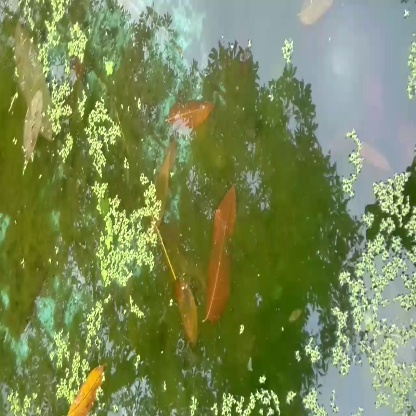leaf: (198, 186, 240, 329), (164, 91, 221, 142), (62, 360, 105, 416)
